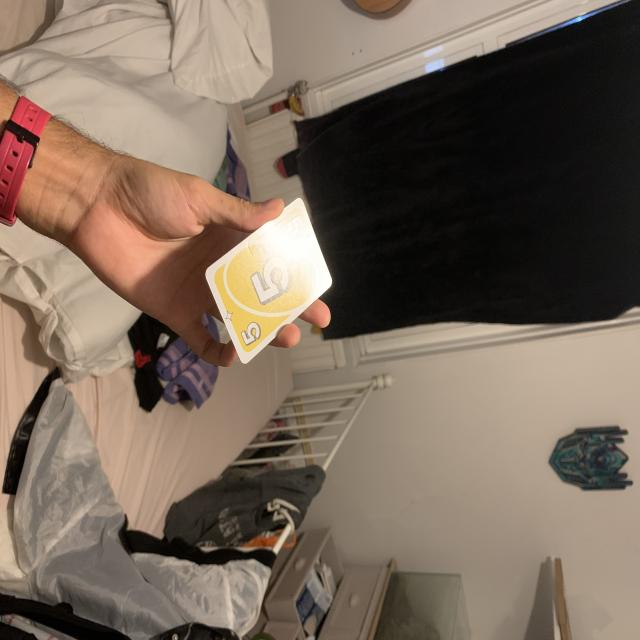lyellow-5: (237, 319, 268, 350)
